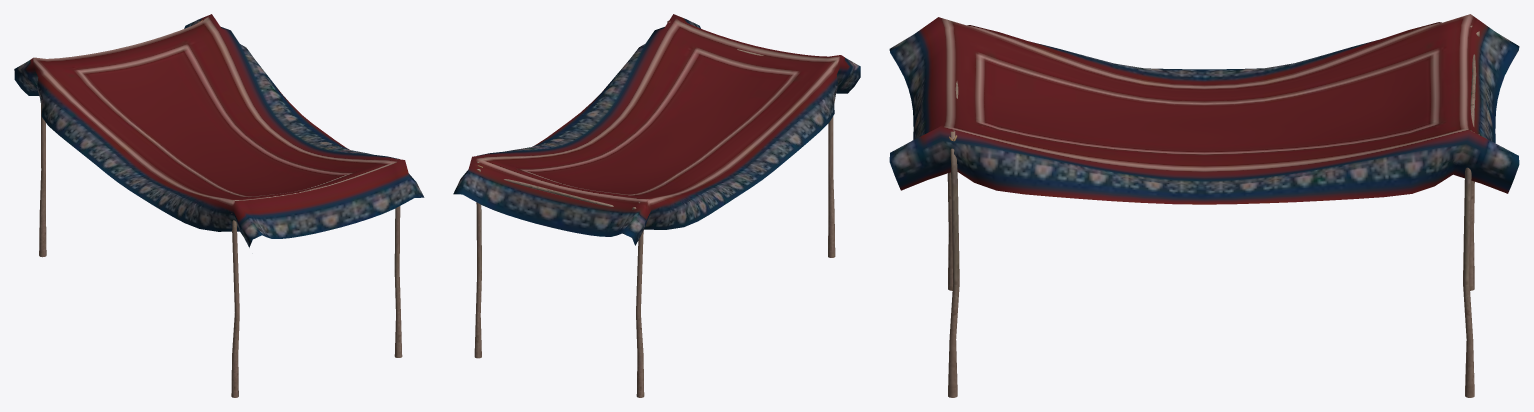
Rendered from SM_market_tent_02_9ee9b0.glb.
3 renders of one model, left to right at view 1: azimuth 30°, elevation 25°; view 2: azimuth 150°, elevation 25°; view 3: azimuth 270°, elevation 25°, orthographic. The views are drawn at different scales.
Size of the model in its own units: 5.07 by 4.54 by 9.63.
Materials: 2 (2 with a texture image).
